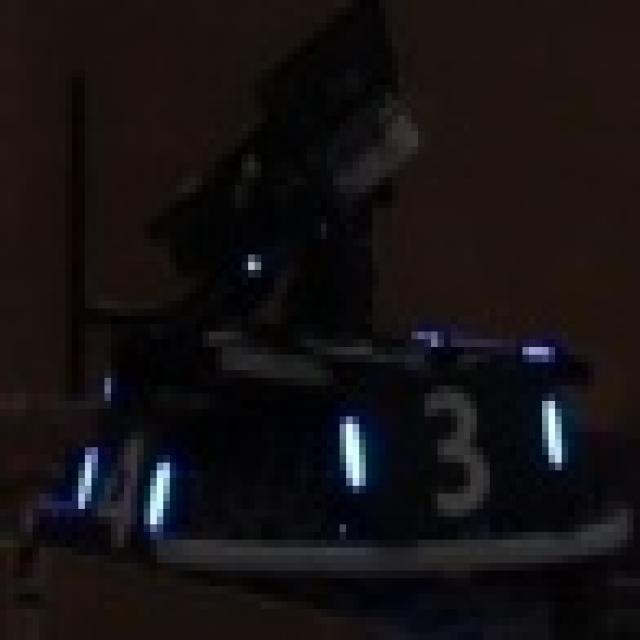B3: (340, 378, 574, 516)
B4: (72, 424, 176, 555)
